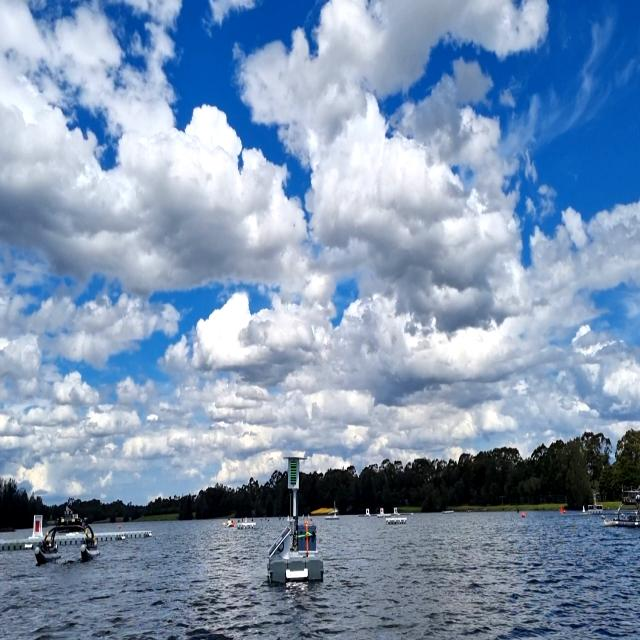led: (289, 459, 298, 487)
